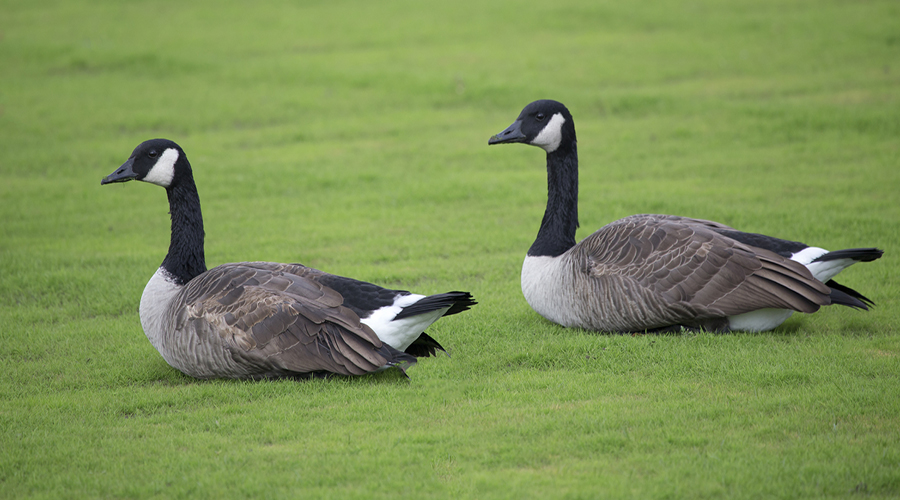goose: (95, 134, 482, 387), (485, 96, 887, 339)
